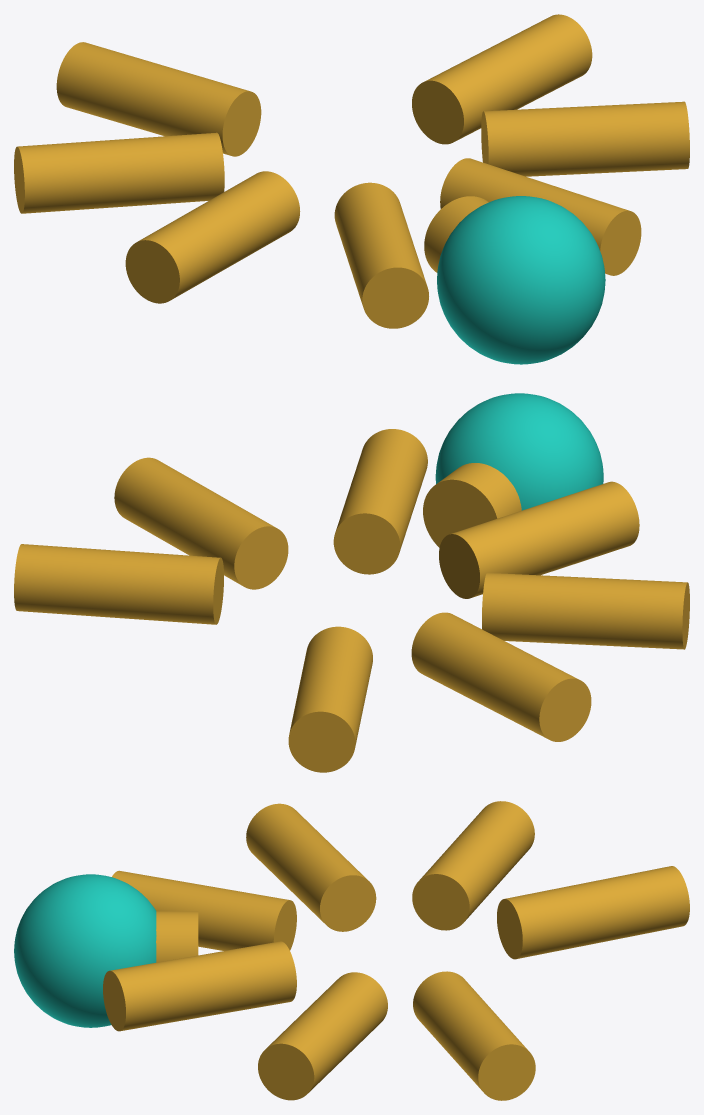
The picture shows the model from 3 angles, top to bottom: view 1: azimuth 30°, elevation 25°; view 2: azimuth 150°, elevation 25°; view 3: azimuth 270°, elevation 25°; orthographic projection. The views are drawn at different scales.
Visible parts, largest first — view 1: turquoise_bead_pendant, hoop_segment_2, hoop_segment_6, hoop_segment_1, hoop_segment_3, hoop_segment_7, hoop_segment_4, hoop_segment_5, gold_crimp_cap; view 2: hoop_segment_7, hoop_segment_3, hoop_segment_4, turquoise_bead_pendant, hoop_segment_2, hoop_segment_6, hoop_segment_5, hoop_segment_1, gold_crimp_cap; view 3: turquoise_bead_pendant, hoop_segment_5, hoop_segment_1, hoop_segment_6, hoop_segment_3, hoop_segment_7, hoop_segment_2, hoop_segment_4, gold_crimp_cap.
Boxes of the visible parts, x1=… form: turquoise_bead_pendant: x1=437, y1=196, x2=605, y2=364; hoop_segment_2: x1=14, y1=132, x2=224, y2=213; hoop_segment_6: x1=481, y1=101, x2=689, y2=176; hoop_segment_1: x1=56, y1=42, x2=261, y2=156; hoop_segment_3: x1=125, y1=171, x2=300, y2=303; hoop_segment_7: x1=412, y1=14, x2=592, y2=144; hoop_segment_4: x1=334, y1=182, x2=428, y2=328; hoop_segment_5: x1=440, y1=158, x2=641, y2=275; gold_crimp_cap: x1=424, y1=196, x2=488, y2=272; hoop_segment_7: x1=14, y1=544, x2=223, y2=624; hoop_segment_3: x1=482, y1=573, x2=689, y2=649; hoop_segment_4: x1=439, y1=481, x2=639, y2=598; turquoise_bead_pendant: x1=435, y1=393, x2=603, y2=510; hoop_segment_2: x1=411, y1=612, x2=591, y2=741; hoop_segment_6: x1=114, y1=457, x2=288, y2=589; hoop_segment_5: x1=333, y1=429, x2=427, y2=574; hoop_segment_1: x1=288, y1=626, x2=372, y2=772; gold_crimp_cap: x1=423, y1=463, x2=521, y2=547; turquoise_bead_pendant: x1=14, y1=874, x2=156, y2=1027; hoop_segment_5: x1=103, y1=941, x2=296, y2=1031; hoop_segment_1: x1=497, y1=866, x2=689, y2=959; hoop_segment_6: x1=258, y1=972, x2=387, y2=1100; hoop_segment_3: x1=246, y1=803, x2=376, y2=931; hoop_segment_7: x1=413, y1=971, x2=535, y2=1100; hoop_segment_2: x1=412, y1=801, x2=534, y2=930; hoop_segment_4: x1=112, y1=870, x2=296, y2=950; gold_crimp_cap: x1=156, y1=911, x2=198, y2=962.
Size of the model in its own units: 0.0194 by 0.005 by 0.022.
